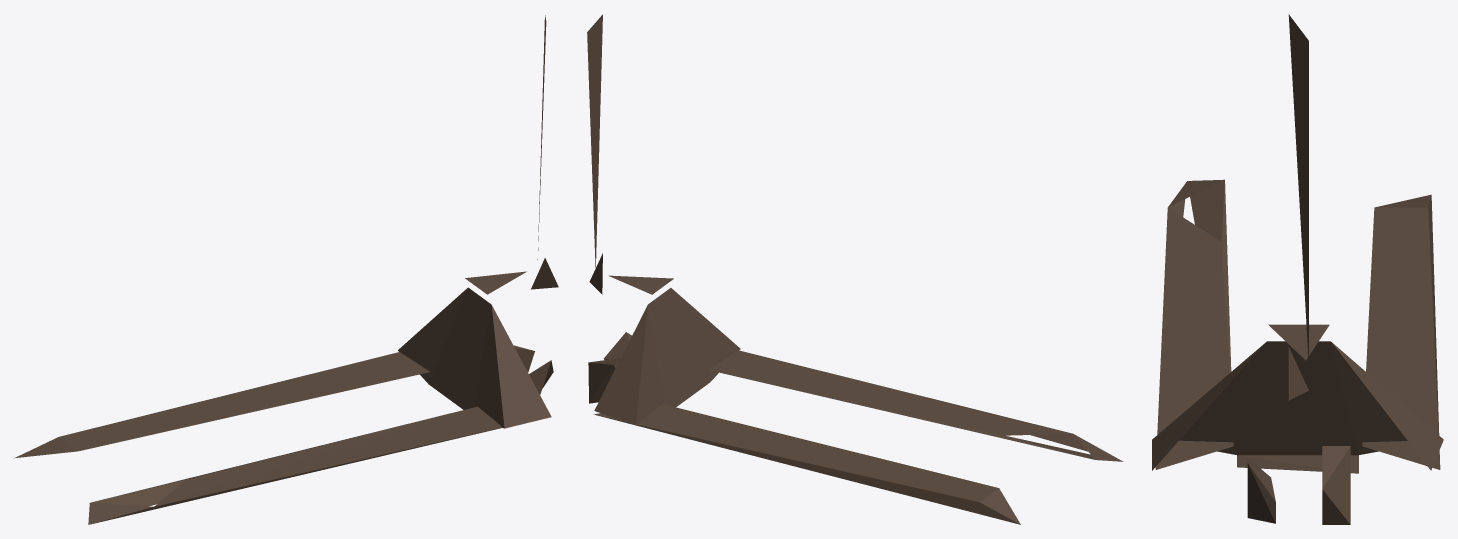
Rendered from pallet-truck.lod2.glb.
The picture shows the model from 3 angles, left to right: view 1: azimuth 30°, elevation 25°; view 2: azimuth 150°, elevation 25°; view 3: azimuth 270°, elevation 25°; orthographic projection. The views are drawn at different scales.
Parts seen in each view (by area): view 1: defaultMaterial; view 2: defaultMaterial; view 3: defaultMaterial.
Part boxes in pixels (x1,y1,x2,y2): defaultMaterial: [14, 15, 558, 524]; defaultMaterial: [587, 14, 1123, 524]; defaultMaterial: [1152, 14, 1443, 524].
Size of the model in its own units: 1.58 by 1.13 by 0.5747.
